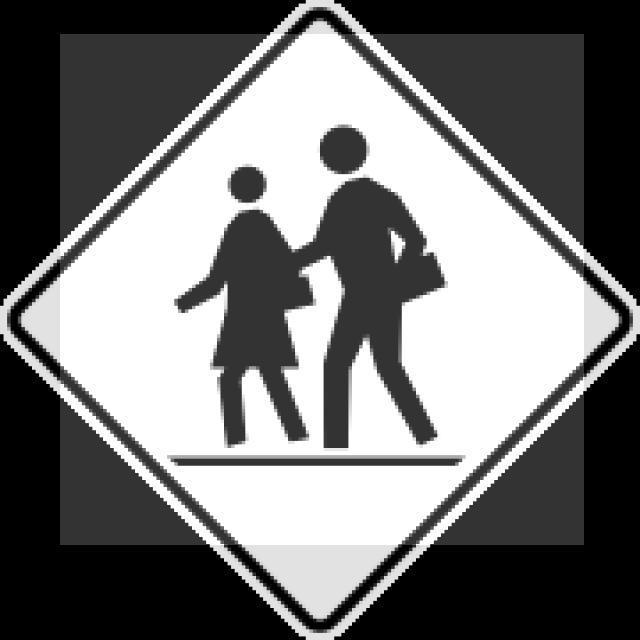school ahead: (22, 25, 622, 610)
